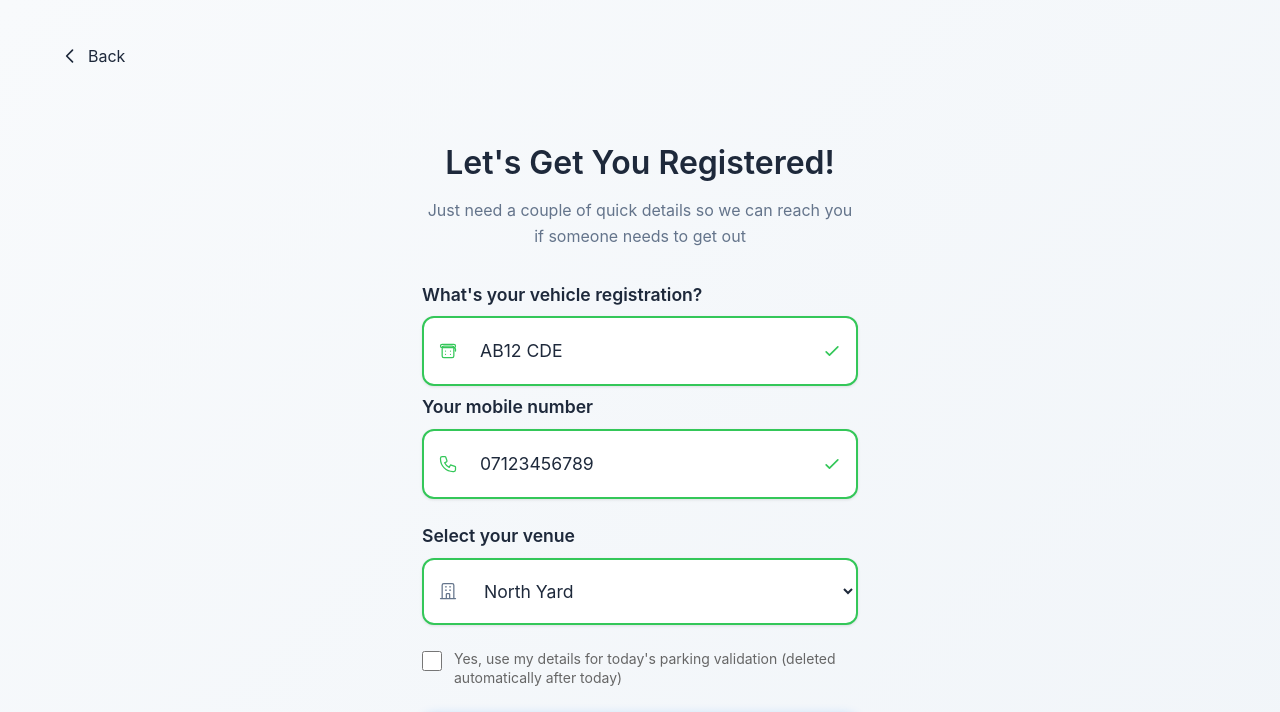
MoveMate App flows › validates form, displays numeric venue name on confirmation, prevents double submit, and handles 409 conflict
This screenshot has width=1280, height=712.
Earlier steps of the test are not shown.
Later steps or results of the test are not shown.
Expected: the checkbox labelled "Yes, use my details" is not checked, top-left (422, 650), bottom-right (442, 670)
Click the text "Yes, use my details" at (656, 668), box top-left (454, 648), bottom-right (858, 688)
(page scrolled)
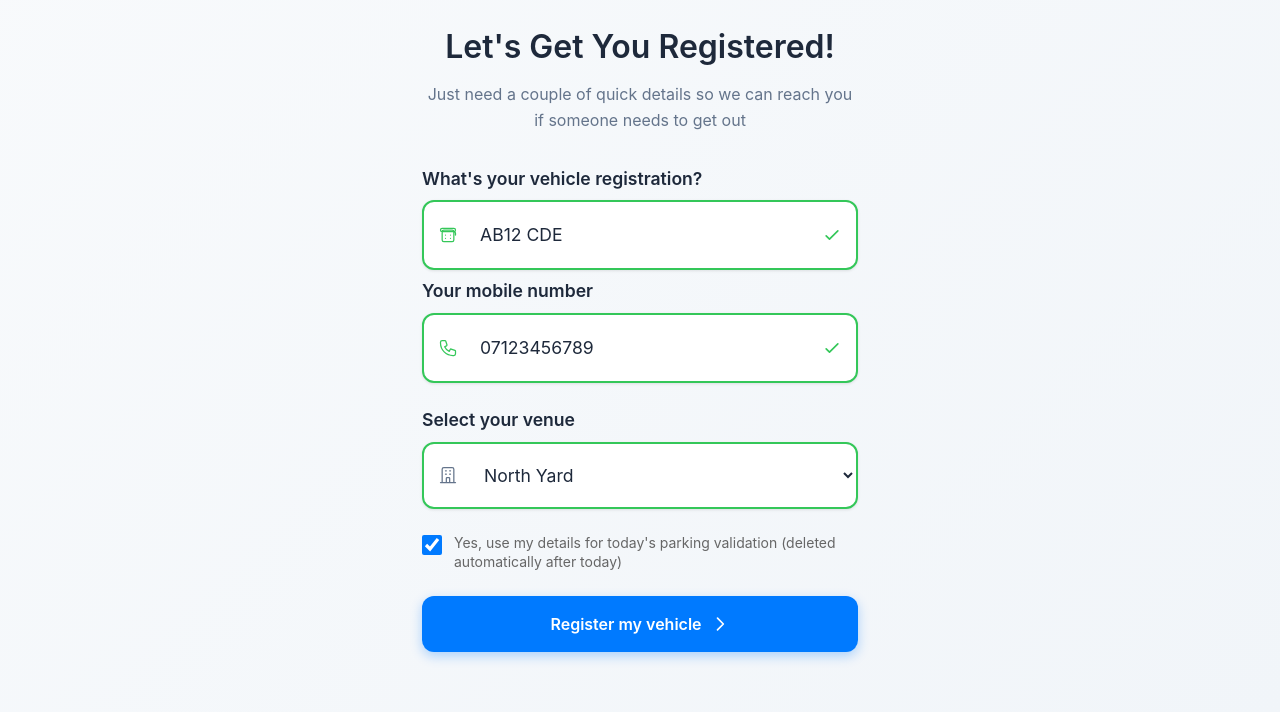
Now the checkbox labelled "Yes, use my details" is checked, box top-left (422, 534), bottom-right (442, 554)
Click the button "Register my vehicle" at (640, 624), box top-left (422, 596), bottom-right (858, 652)
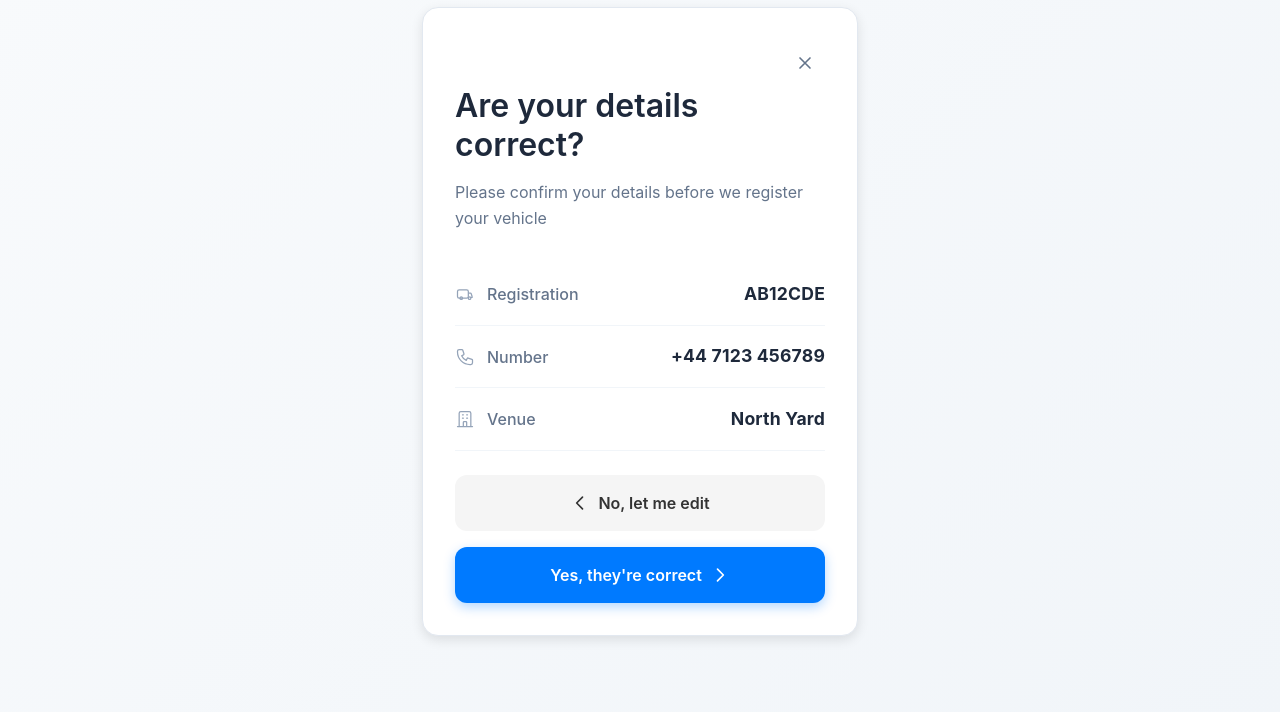
Now the heading "Are your details correct?" is shown, box top-left (455, 86), bottom-right (698, 164)
Now the text "AB12CDE" is shown, box top-left (744, 283), bottom-right (825, 304)
Now the text "+44 7123 456789" is shown, box top-left (671, 345), bottom-right (825, 366)
Click the button "Yes, they're correct" at (640, 575), box top-left (455, 547), bottom-right (825, 603)
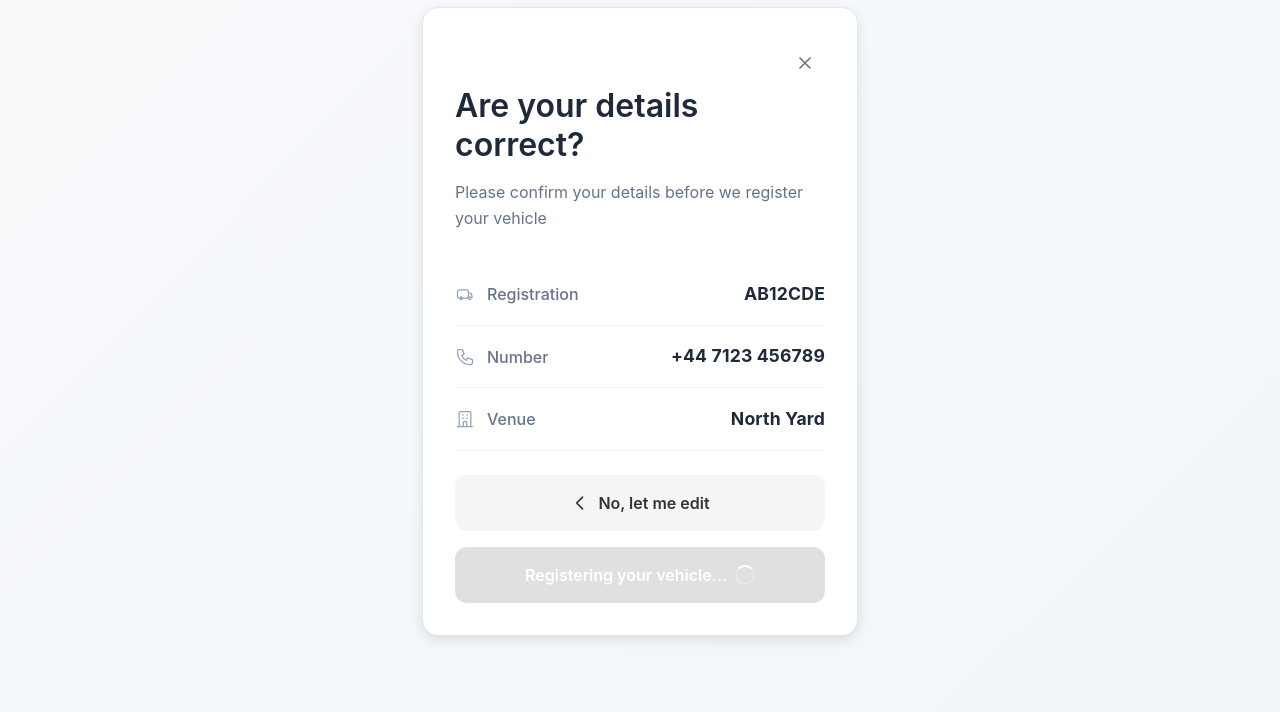
Click the button named "Yes, they're correct" at (640, 575), box top-left (455, 547), bottom-right (825, 603)
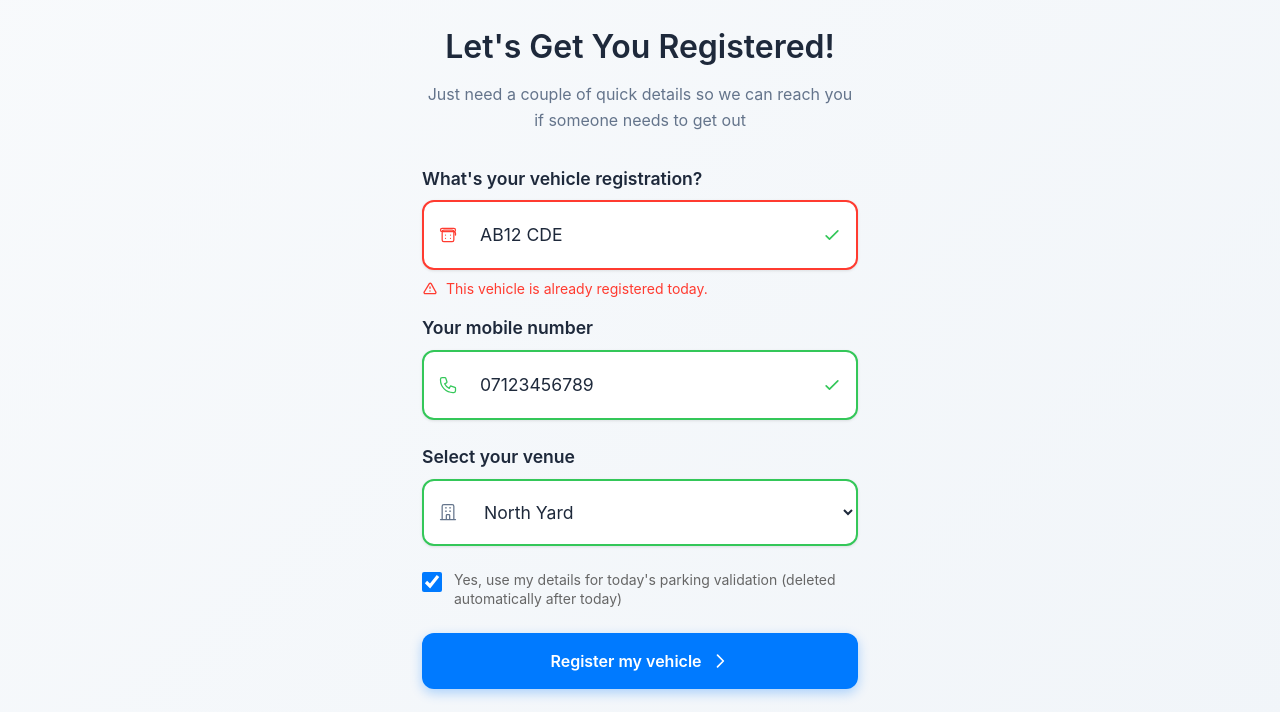
Now the text "This vehicle is already registered today." is shown, box top-left (446, 278), bottom-right (708, 299)
Note: Re-submit succeeds with smsSent: false confirmation copy
Click the button "Register my vehicle" at (640, 661), box top-left (422, 633), bottom-right (858, 689)
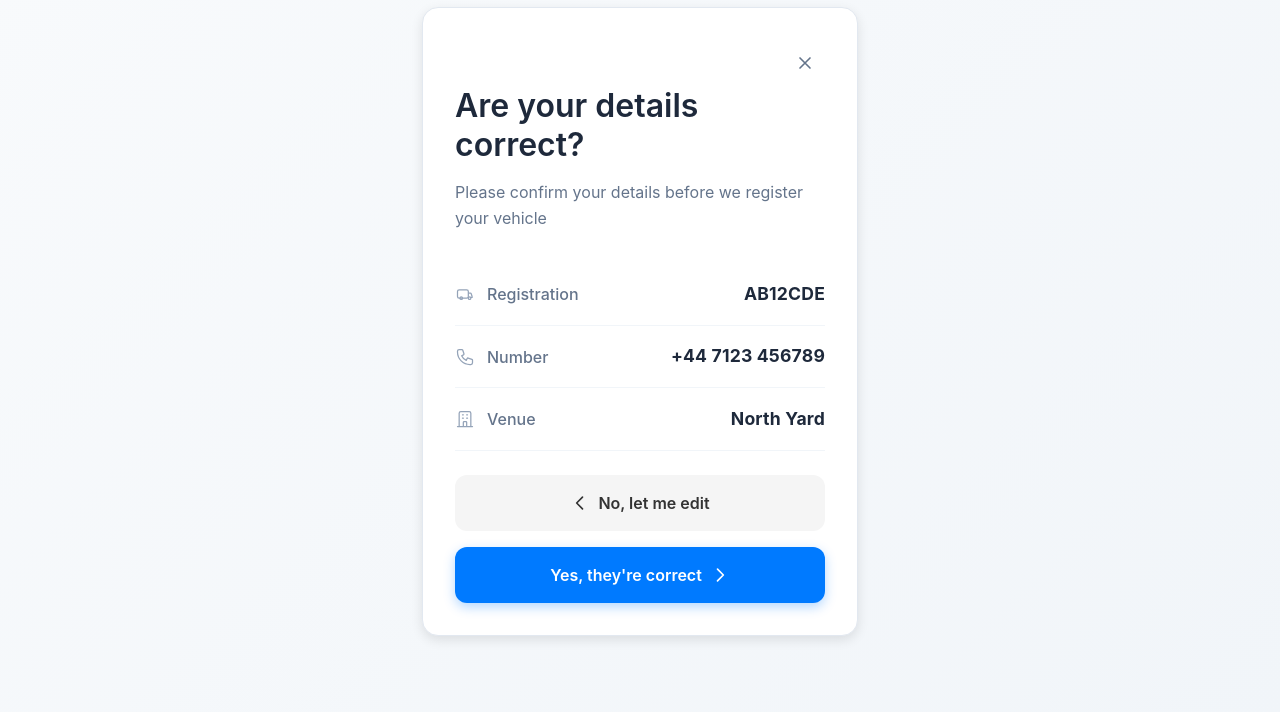
Click the button "Yes, they're correct" at (640, 575), box top-left (455, 547), bottom-right (825, 603)
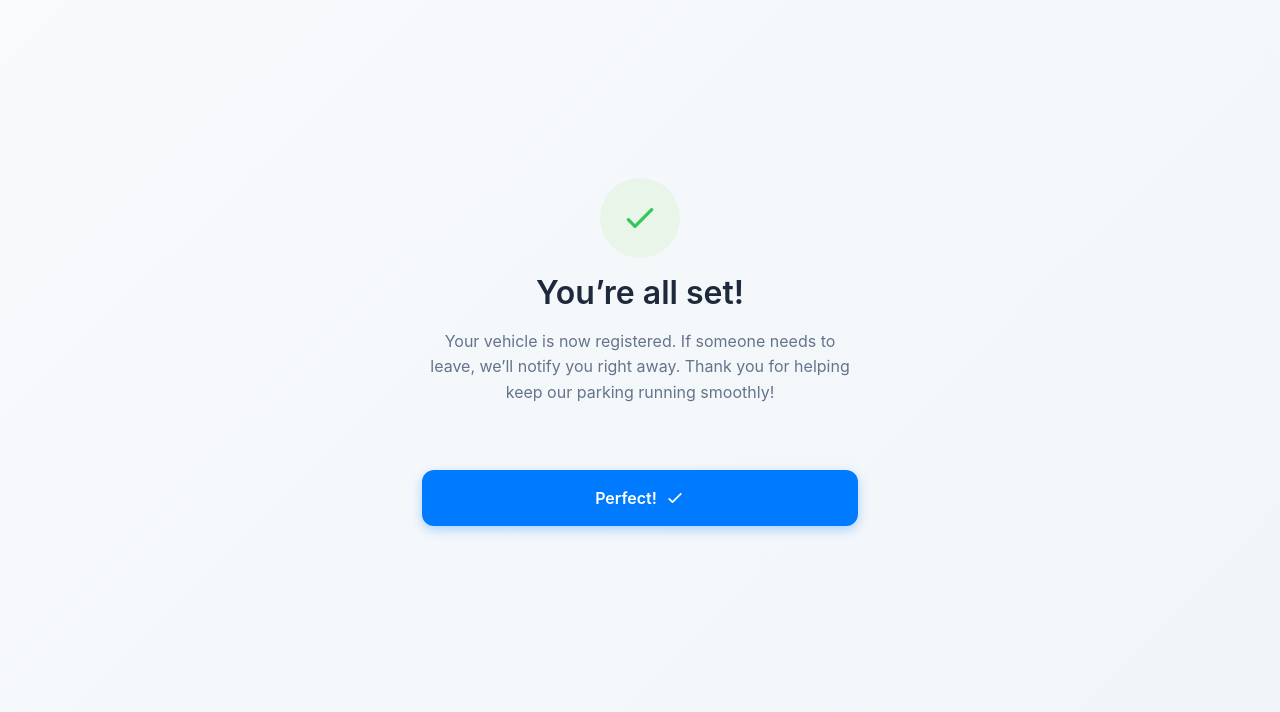
Now the heading "You’re all set!" is shown, box top-left (536, 273), bottom-right (744, 312)
Now the text "Your vehicle is now registered. If someone needs to leave" is shown, box top-left (430, 331), bottom-right (850, 402)
